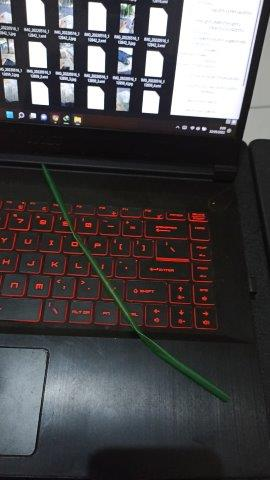sedotan: (41, 163, 228, 399)
